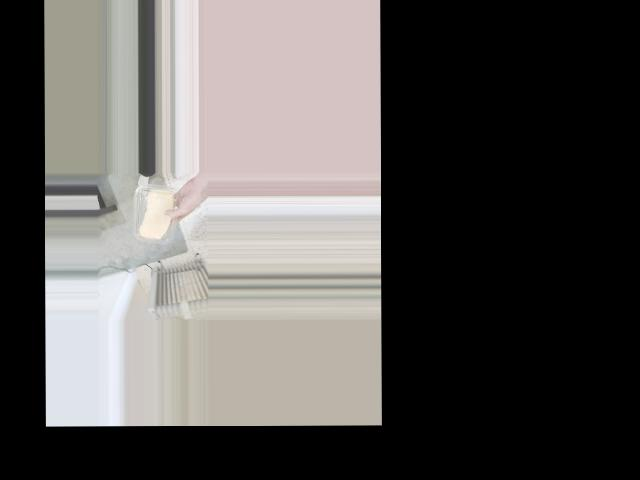cheese: (134, 185, 179, 246)
